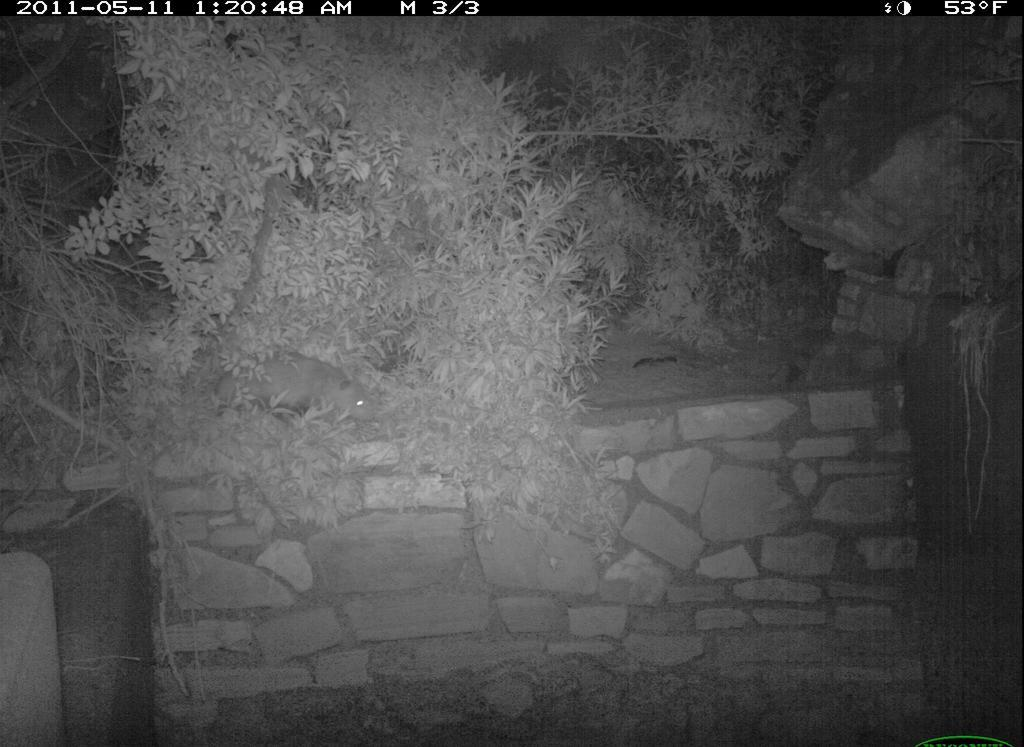opossum: (218, 321, 395, 449)
